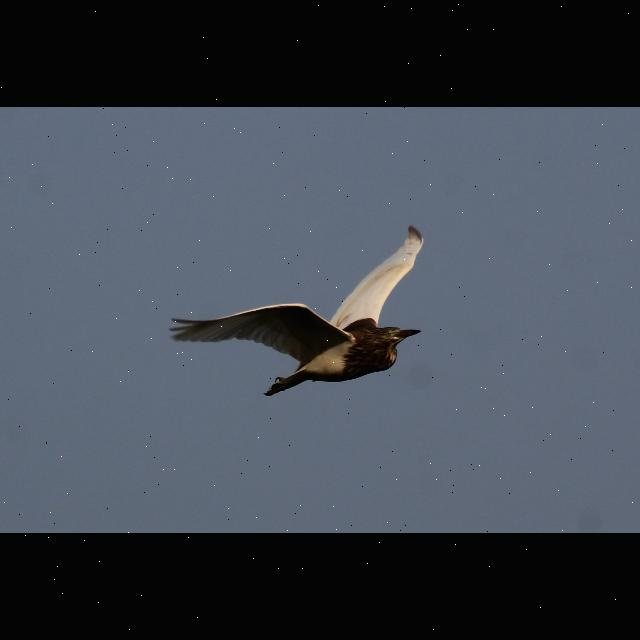heron: (173, 219, 447, 407)
